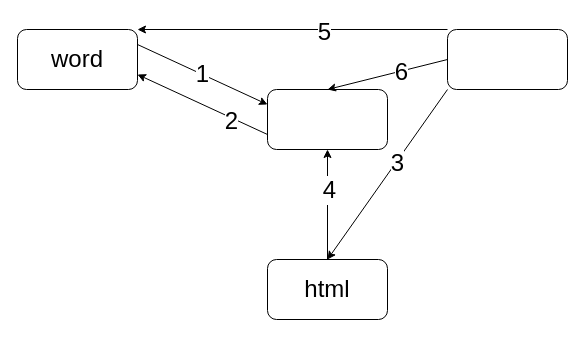
Some shapes in this 585 by 337 pixel diagram are drawn without their labels. The shapes that lost their labels are listed below. From the top down, each one's centre as x and y in pixels, then its label:
[507,59]: md
[327,119]: pdf
